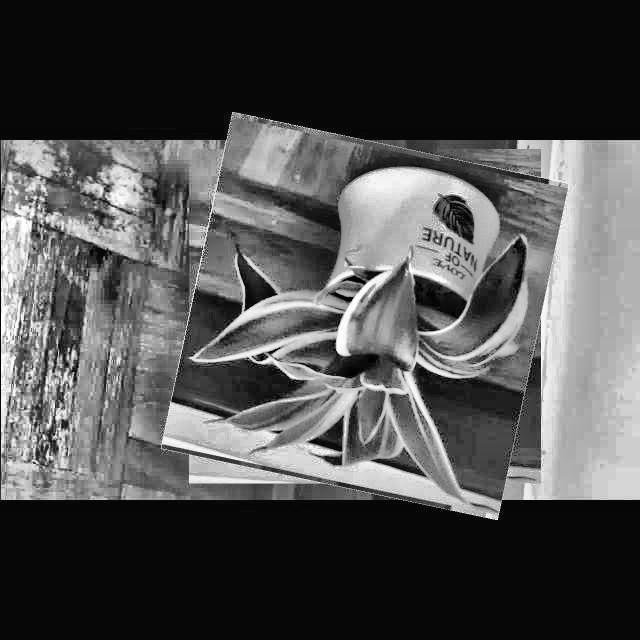plants: (177, 128, 552, 504)
